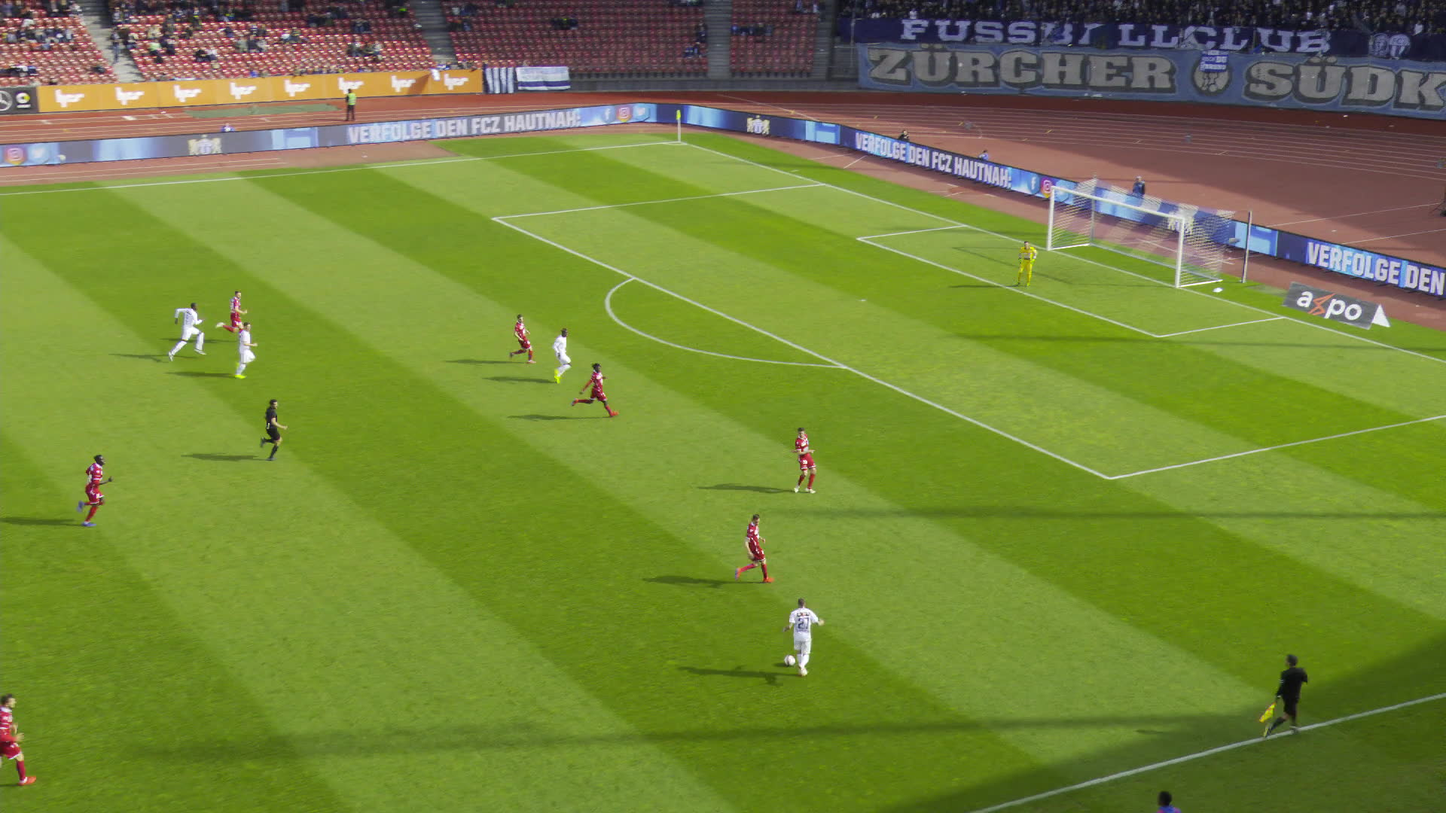ball: (786, 656, 797, 667)
player: (781, 599, 824, 682), (0, 693, 37, 787), (73, 452, 111, 526), (737, 512, 773, 587), (570, 361, 616, 417), (164, 302, 209, 358), (791, 426, 818, 497), (541, 326, 575, 381), (213, 289, 248, 341), (507, 309, 538, 363), (228, 321, 255, 378), (1016, 239, 1038, 287)
referee: (1247, 655, 1306, 737), (255, 397, 284, 460)
